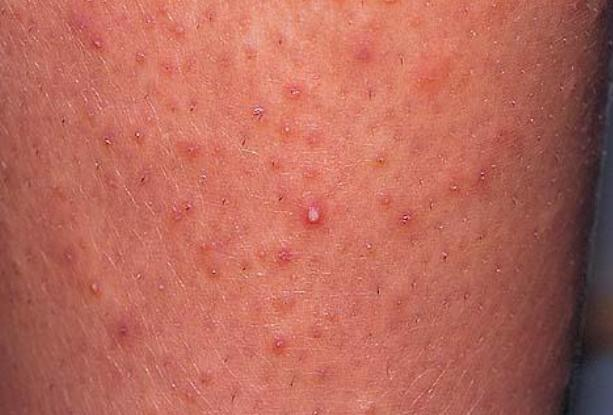folliculitis: (299, 198, 339, 236), (274, 121, 304, 146), (84, 277, 110, 304), (375, 187, 391, 218)
